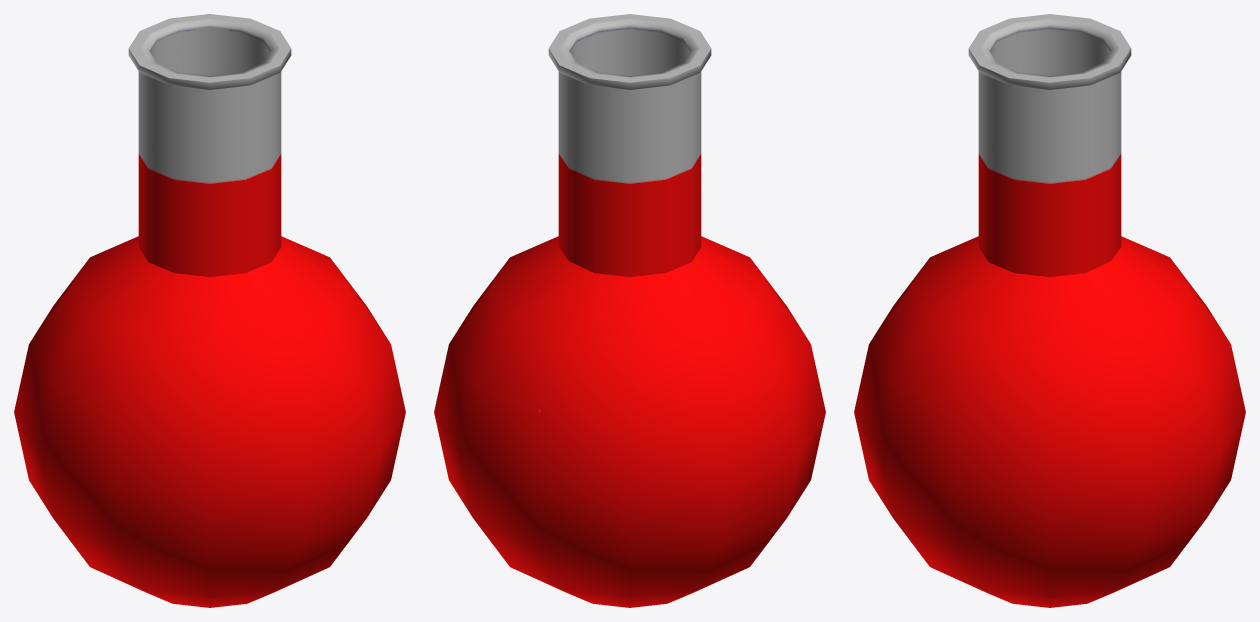
The model's file is poti roja (provisoria).fbx.
The picture shows the model from 3 angles, left to right: view 1: azimuth 30°, elevation 25°; view 2: azimuth 150°, elevation 25°; view 3: azimuth 270°, elevation 25°; orthographic projection.
Visible parts, largest first — view 1: Sphere.004; view 2: Sphere.004; view 3: Sphere.004.
Part boxes in pixels (x1=…): Sphere.004: x1=14, y1=14, x2=405, y2=607; Sphere.004: x1=434, y1=14, x2=825, y2=607; Sphere.004: x1=854, y1=14, x2=1245, y2=607.
Bounding box in the file's own units: 200 × 305 × 200.
